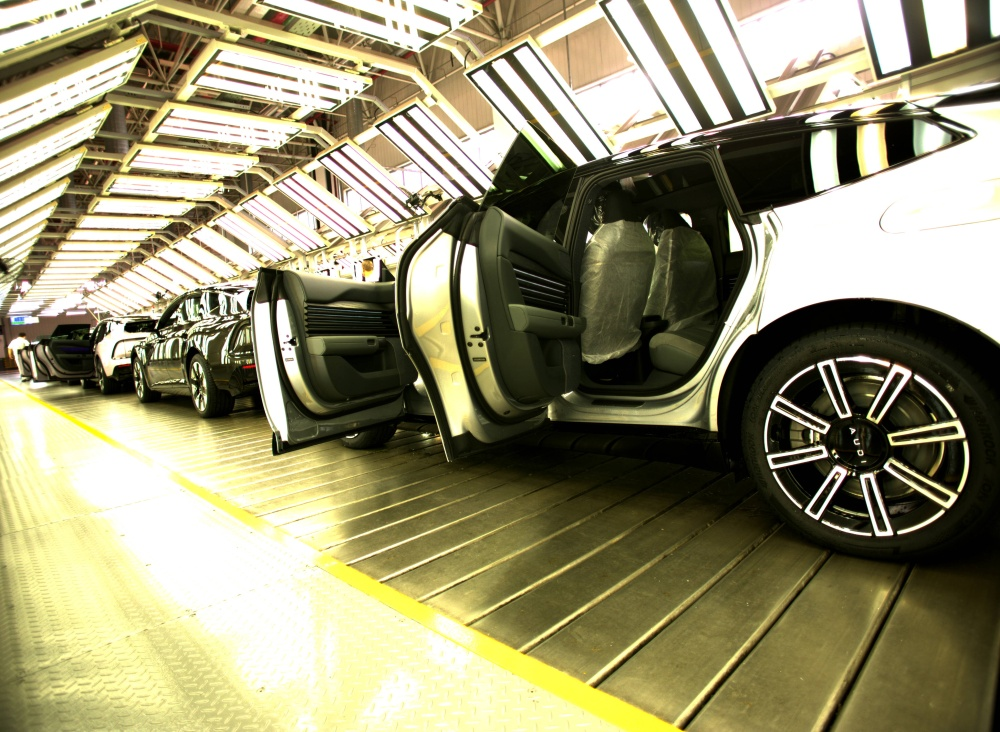armrest_color: (506, 302, 585, 338), (305, 334, 390, 355)
panel_color: (510, 261, 570, 313), (304, 301, 391, 333)
